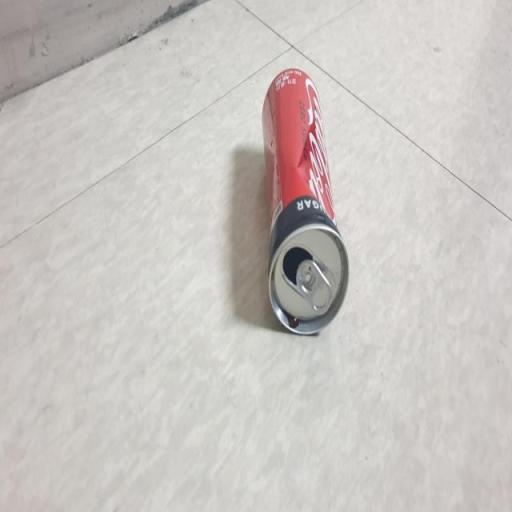metal: (254, 52, 358, 364)
